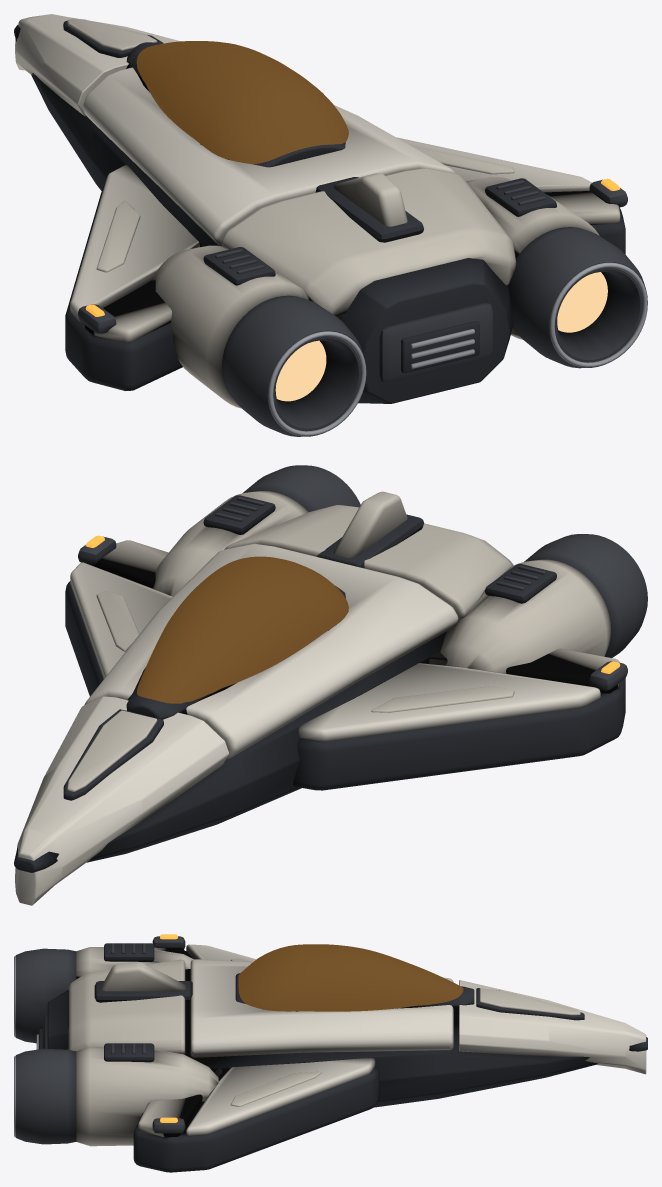
Rendered from scout.glb.
The picture shows the model from 3 angles, top to bottom: view 1: azimuth 30°, elevation 25°; view 2: azimuth 150°, elevation 25°; view 3: azimuth 270°, elevation 25°; orthographic projection. The views are drawn at different scales.
Visible parts, largest first — view 1: Scout; view 2: Scout; view 3: Scout.
Boxes of the visible parts, left/top/right/bottom form: Scout: left=14, top=14, right=647, bottom=436; Scout: left=14, top=465, right=647, bottom=905; Scout: left=14, top=934, right=647, bottom=1172.
Bounding box in the file's own units: 4.98 × 1.83 × 7.01.
